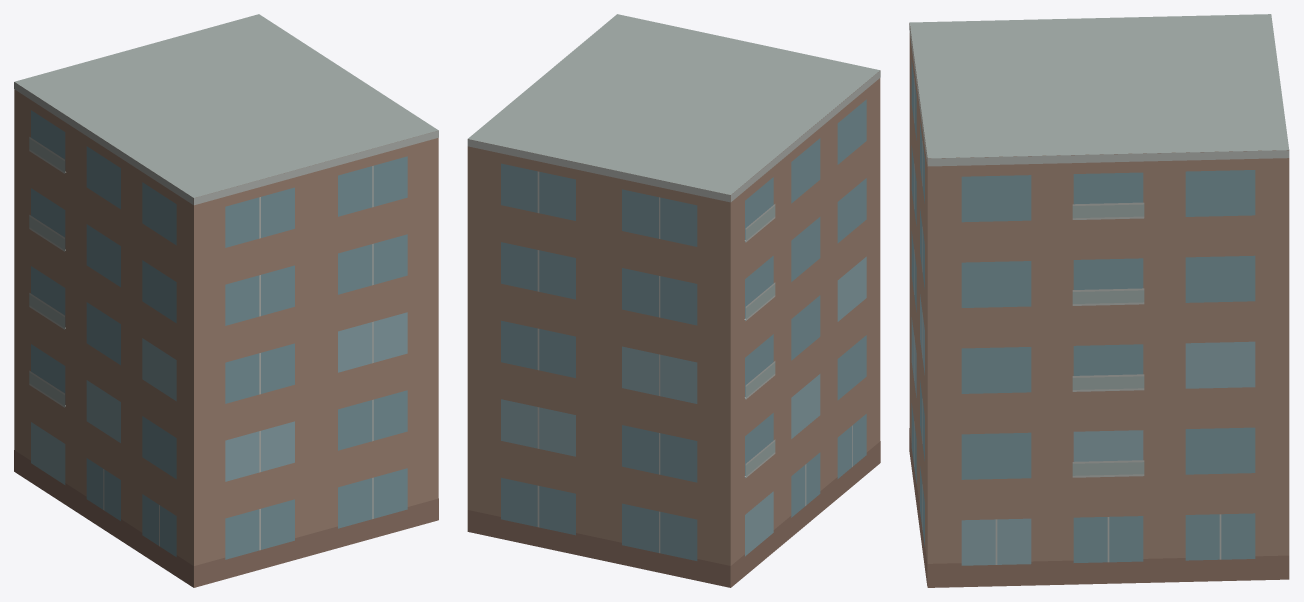
File: survey-upis-32647225.glb
3 renders of one model, left to right at view 1: azimuth 30°, elevation 25°; view 2: azimuth 150°, elevation 25°; view 3: azimuth 270°, elevation 25°, orthographic. The views are drawn at different scales.
Parts seen in each view (by area): view 1: survey-upis-32647225.tmp; view 2: survey-upis-32647225.tmp; view 3: survey-upis-32647225.tmp.
Part boxes in pixels (bbox=[...]): survey-upis-32647225.tmp: bbox=[14, 14, 438, 587]; survey-upis-32647225.tmp: bbox=[467, 14, 880, 587]; survey-upis-32647225.tmp: bbox=[909, 14, 1289, 587].
Bounding box in the file's own units: 9.39 × 13 × 10.43.
